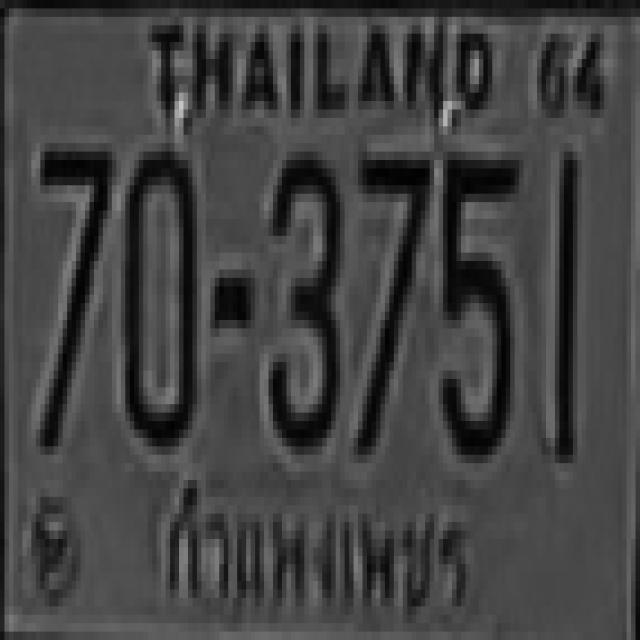0: (121, 143, 192, 438)
1: (550, 152, 573, 454)
3: (264, 143, 340, 446)
5: (438, 143, 514, 455)
7: (36, 135, 107, 446), (354, 143, 425, 446)
KamphaengPhet: (144, 477, 478, 628)
